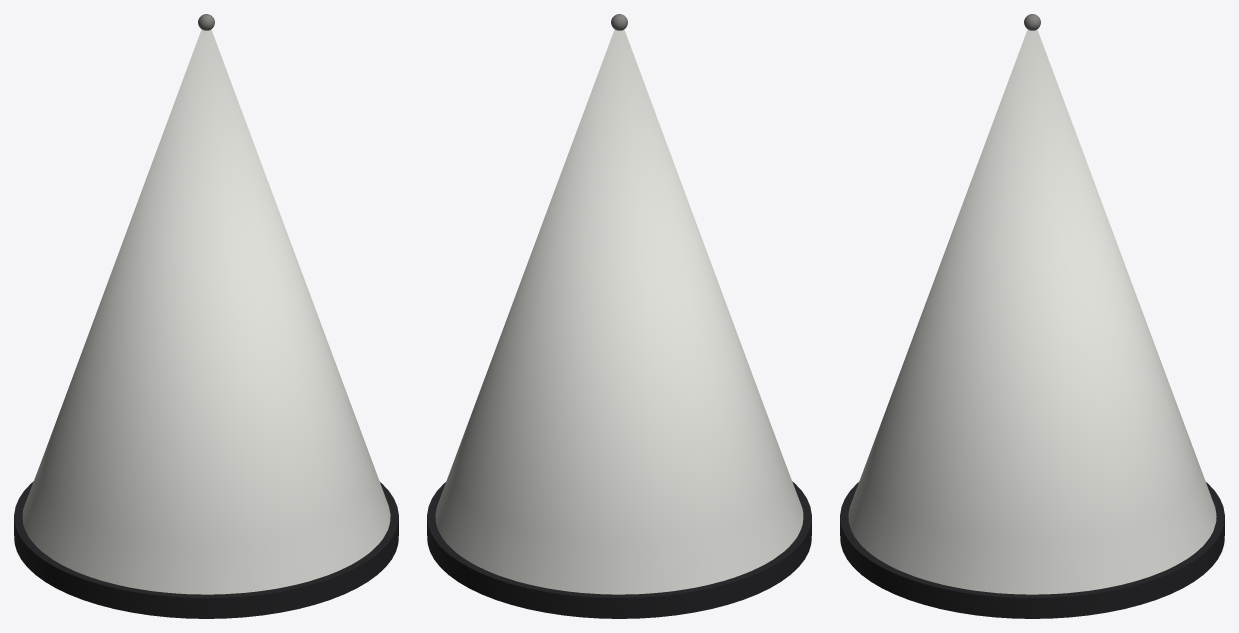
File: stage13_nose_cone_conic_m.glb
3 views of the same model, side by side, from view 1: azimuth 30°, elevation 25°; view 2: azimuth 150°, elevation 25°; view 3: azimuth 270°, elevation 25° (orthographic).
Visible parts, largest first — view 1: cone, base_ring; view 2: cone, base_ring; view 3: cone, base_ring.
Boxes of the visible parts, x1,y1,x2,y2 form: cone: (22,29,390,594); base_ring: (14,481,398,618); cone: (435,29,803,594); base_ring: (427,481,811,618); cone: (848,29,1216,594); base_ring: (840,482,1224,618).
Size of the model in its own units: 2.51 by 3.76 by 2.51.
3 materials, 1 textured.
